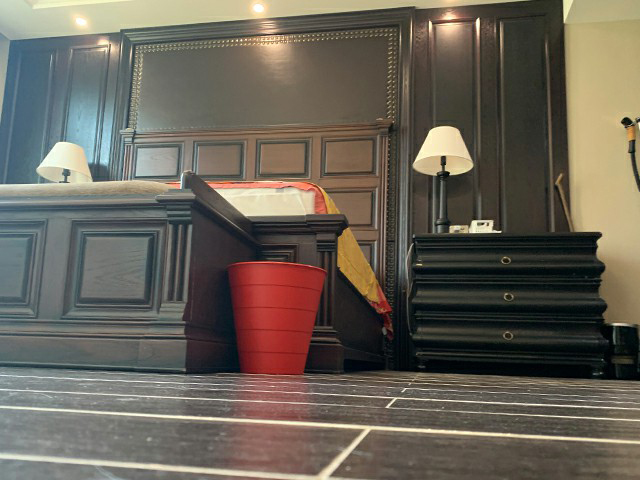bed: (188, 177, 392, 377)
cabinet: (408, 231, 611, 379)
stool: (1, 170, 261, 378)
trash can: (225, 260, 329, 377)
